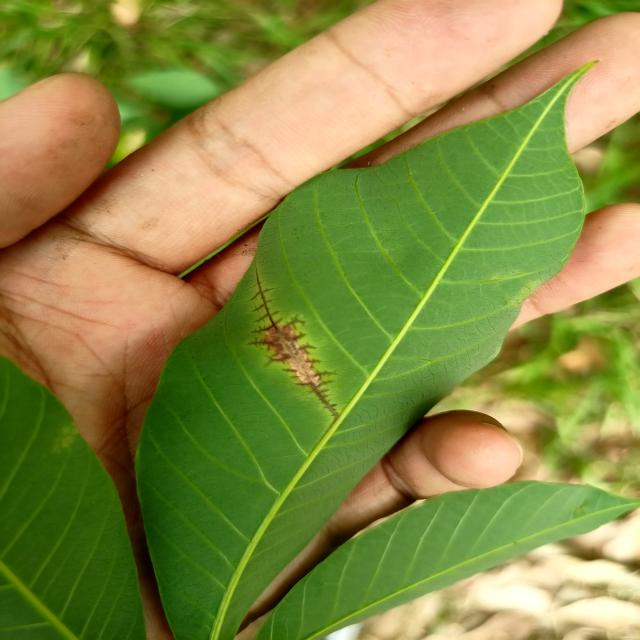Corynespora: (246, 262, 339, 421)
